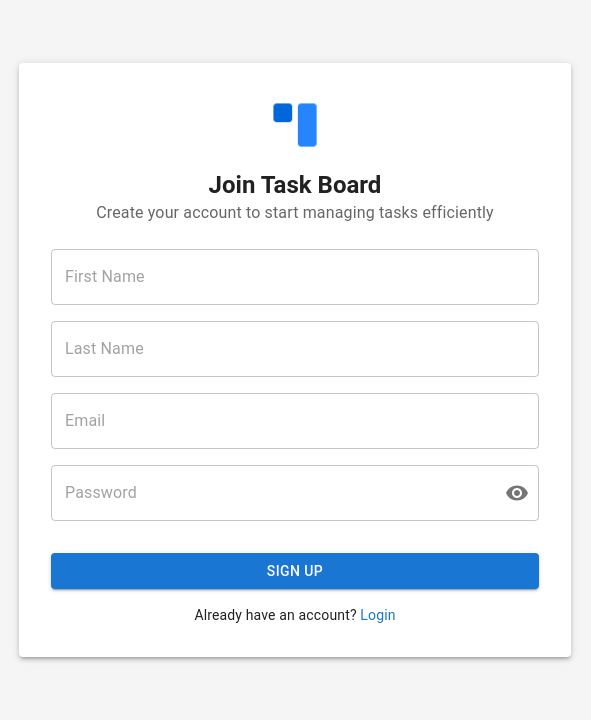
Scenario: SignUp Component › shows validation errors if fields are empty
Click the button "Sign Up" at (295, 571), box x1=51 y1=553 x2=539 y2=589
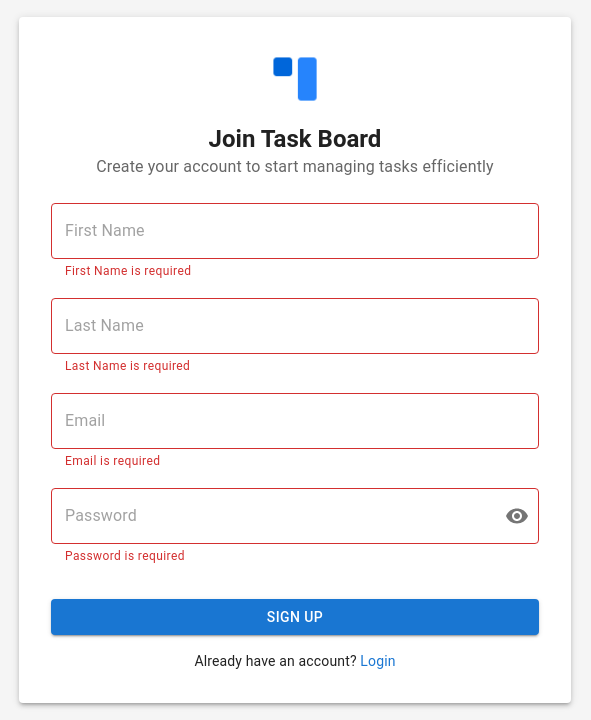
Check: the text "First Name is required" is shown, box x1=65 y1=264 x2=191 y2=278
Check: the text "Last Name is required" is shown, box x1=65 y1=359 x2=190 y2=373
Check: the text "Email is required" is shown, box x1=65 y1=454 x2=160 y2=468
